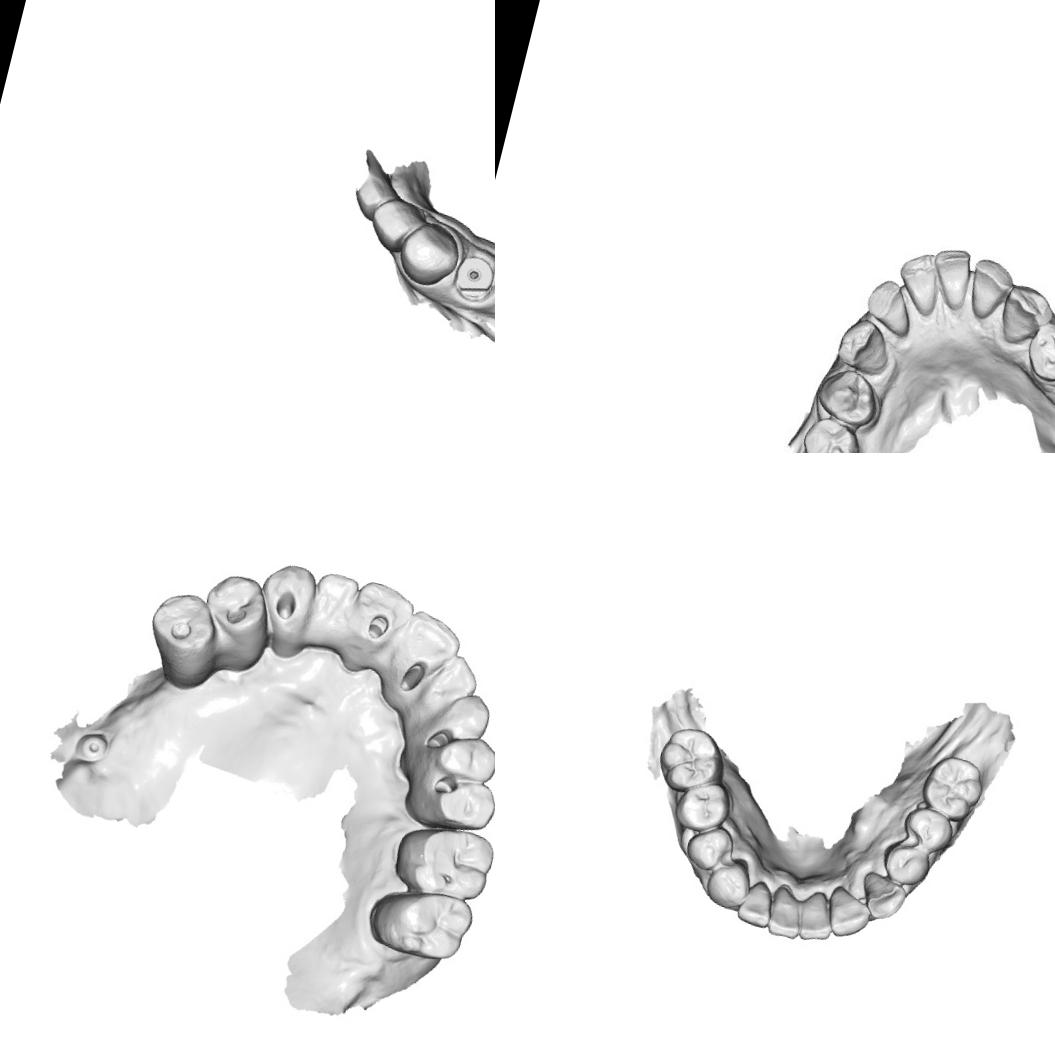canine: (250, 555, 321, 641), (392, 216, 465, 292), (426, 684, 495, 747), (832, 312, 897, 378), (994, 280, 1055, 350), (852, 867, 910, 927), (700, 853, 756, 914)
implant: (449, 251, 495, 306)
incisor: (392, 606, 467, 690), (344, 578, 419, 659), (364, 192, 428, 258), (890, 247, 948, 318), (961, 254, 1018, 324), (858, 274, 920, 338), (922, 243, 977, 312), (306, 566, 362, 633), (426, 648, 484, 708), (820, 882, 876, 944), (348, 168, 405, 227), (762, 881, 809, 942), (794, 886, 840, 946), (732, 874, 778, 931)
molar: (362, 877, 476, 966), (387, 814, 495, 907), (650, 720, 732, 801), (914, 748, 990, 827)
premolar: (138, 584, 220, 682), (194, 566, 276, 654), (416, 766, 495, 837), (810, 362, 884, 430), (427, 725, 495, 789), (670, 774, 736, 838), (894, 800, 960, 858), (680, 818, 736, 878), (874, 836, 934, 892), (797, 412, 866, 453), (1020, 316, 1055, 387)
